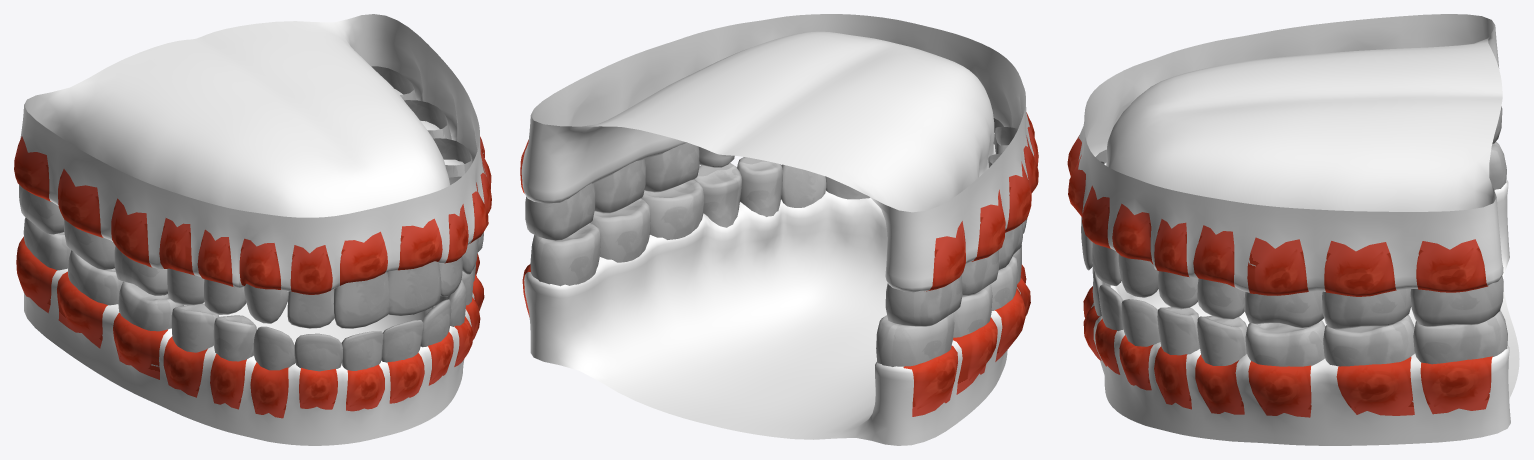
File: teeth.fbx
3 views of the same model, side by side, from view 1: azimuth 30°, elevation 25°; view 2: azimuth 150°, elevation 25°; view 3: azimuth 270°, elevation 25° (orthographic). The views are drawn at different scales.
Parts seen in each view (by area): view 1: jaw_up, jaw_down, teeth.8, teeth.9, blood_yum_down.004, blood_yum_down.005, teeth.30, blood_yum_up.012, blood_yum_up.013, teeth.29, blood_yum_up.011, blood_yum_up.010 (+36 smaller); view 2: jaw_up, jaw_down, teeth.17, teeth.32, teeth.19, teeth.18, teeth.1, teeth.16, blood_yum_down.015, teeth.20, teeth.21, teeth.14 (+12 smaller); view 3: jaw_up, jaw_down, blood_yum_down.007, teeth.18, teeth.17, blood_yum_down.008, blood_yum_up.004, blood_yum_up.015, teeth.19, teeth.16, blood_yum_up.005, blood_yum_down.009 (+21 smaller).
Boxes of the visible parts, x1=… form: jaw_up: x1=20, y1=14, x2=486, y2=291; jaw_down: x1=23, y1=268, x2=474, y2=445; teeth.8: x1=333, y1=272, x2=389, y2=328; teeth.9: x1=387, y1=261, x2=441, y2=315; blood_yum_down.004: x1=113, y1=313, x2=168, y2=379; blood_yum_down.005: x1=57, y1=271, x2=107, y2=348; teeth.30: x1=118, y1=281, x2=184, y2=331; blood_yum_up.012: x1=340, y1=231, x2=387, y2=285; blood_yum_up.013: x1=58, y1=169, x2=103, y2=237; teeth.29: x1=171, y1=303, x2=219, y2=352; blood_yum_up.011: x1=290, y1=245, x2=332, y2=294; blood_yum_up.010: x1=239, y1=238, x2=281, y2=289; jaw_up: x1=521, y1=14, x2=1033, y2=292; jaw_down: x1=524, y1=190, x2=1020, y2=445; teeth.17: x1=530, y1=223, x2=600, y2=286; teeth.32: x1=876, y1=313, x2=954, y2=366; teeth.19: x1=641, y1=179, x2=704, y2=239; teeth.18: x1=590, y1=198, x2=650, y2=262; teeth.1: x1=885, y1=275, x2=962, y2=326; teeth.16: x1=525, y1=183, x2=595, y2=240; blood_yum_down.015: x1=903, y1=345, x2=957, y2=416; teeth.20: x1=694, y1=163, x2=741, y2=227; teeth.21: x1=737, y1=157, x2=782, y2=216; teeth.14: x1=644, y1=143, x2=699, y2=192; jaw_up: x1=1078, y1=14, x2=1503, y2=292; jaw_down: x1=1091, y1=179, x2=1519, y2=445; blood_yum_down.007: x1=1336, y1=356, x2=1414, y2=415; teeth.18: x1=1323, y1=314, x2=1414, y2=366; teeth.17: x1=1413, y1=310, x2=1507, y2=364; blood_yum_down.008: x1=1420, y1=356, x2=1492, y2=414; blood_yum_up.004: x1=1324, y1=241, x2=1396, y2=296; blood_yum_up.015: x1=1416, y1=239, x2=1488, y2=292; teeth.19: x1=1245, y1=320, x2=1325, y2=366; teeth.16: x1=1410, y1=276, x2=1503, y2=326; blood_yum_up.005: x1=1247, y1=237, x2=1308, y2=295; blood_yum_down.009: x1=1248, y1=361, x2=1311, y2=417.
Bounding box in the file's own units: 50.63 × 32.94 × 45.81.
